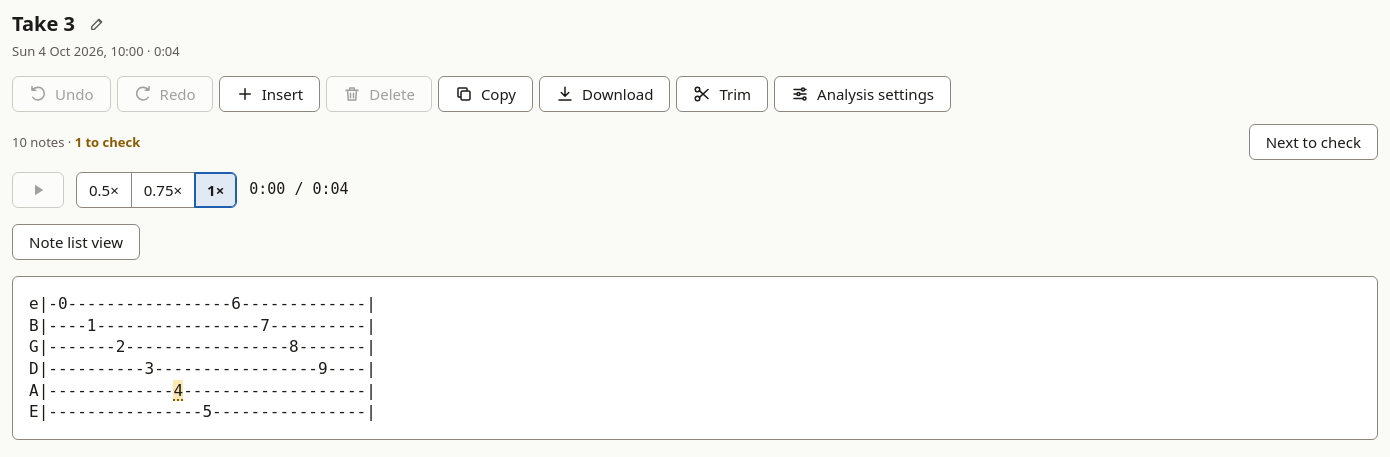
it: Tab screen flags, warnings and bar lines › Next to check selects the next flagged note and focuses it; disabled with a reason at 0
This screenshot has width=1390, height=457.
What coordinates should you click on to do the following:
click the button "Next to check"
I would click on:
 (1313, 142)
Its box is [1249, 124, 1378, 160].
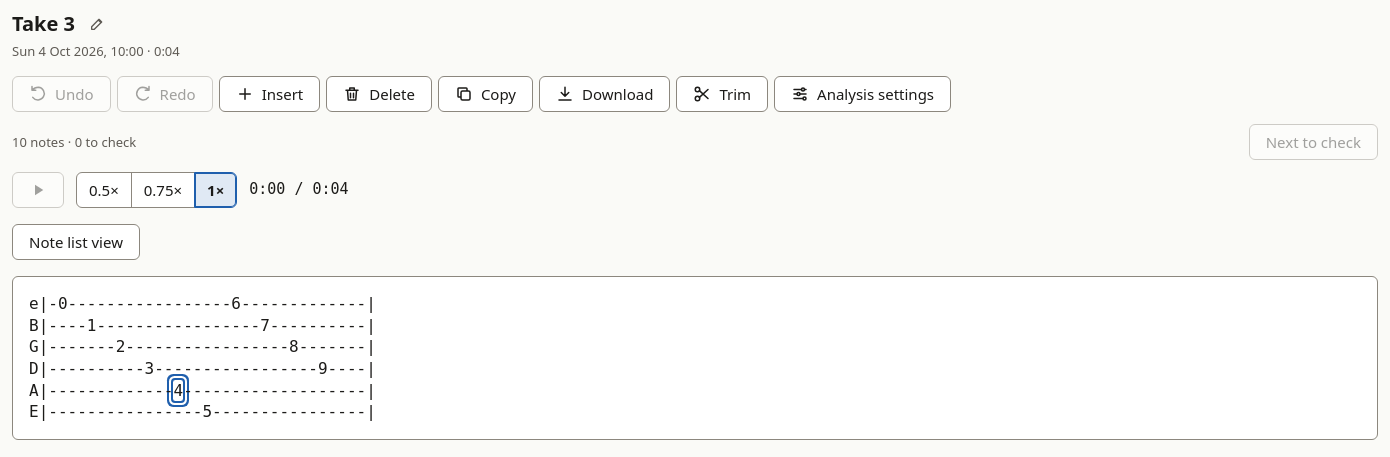
Expected: the button "Next to check" is disabled, [1249, 124, 1378, 160]
